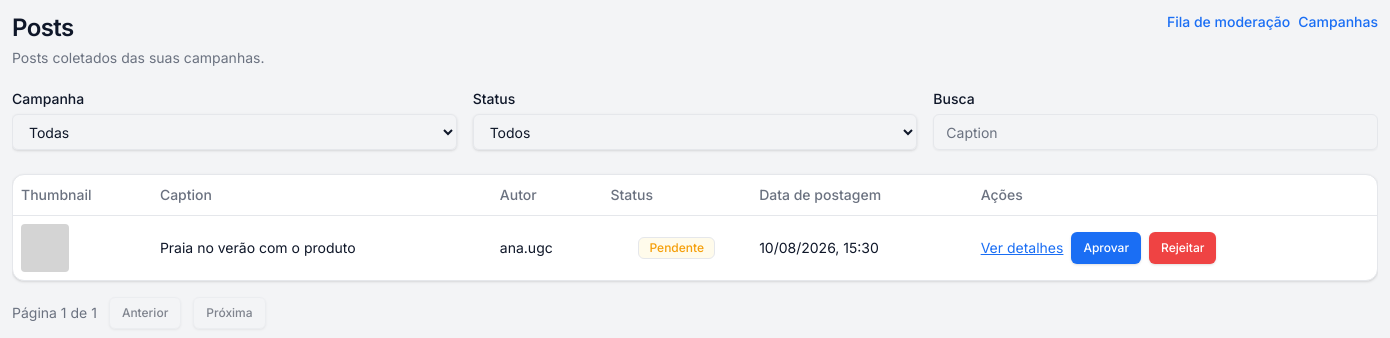
Test: PostsList › rejects a pending post with a reason and refetches the list
What coordinates should you click on to do the following:
click the button "Rejeitar"
I would click on:
 (1183, 248)
Its box is 1149,232 -> 1216,264.
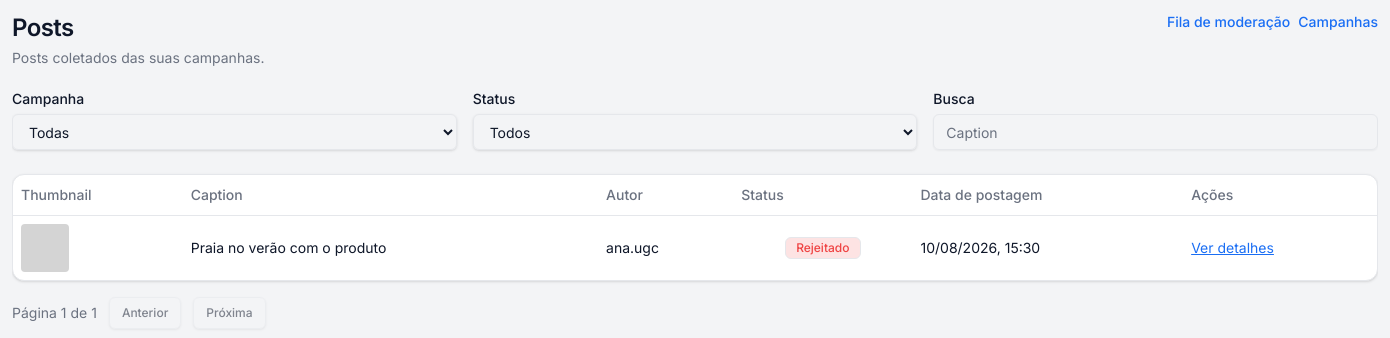
Expected: the text "Rejeitado" is shown, 785,236 -> 860,258
